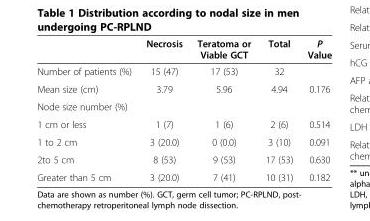table: (36, 37, 331, 182)
table column: (36, 37, 138, 182), (189, 37, 257, 182), (138, 37, 189, 182), (257, 37, 299, 182), (299, 37, 331, 182)
table column header: (36, 37, 331, 62)
table projected row header: (36, 97, 331, 115)
table row: (36, 37, 331, 62), (36, 79, 331, 97), (36, 97, 331, 115), (36, 132, 331, 150), (36, 150, 331, 168), (36, 62, 331, 79), (36, 115, 331, 132), (36, 168, 331, 182)
